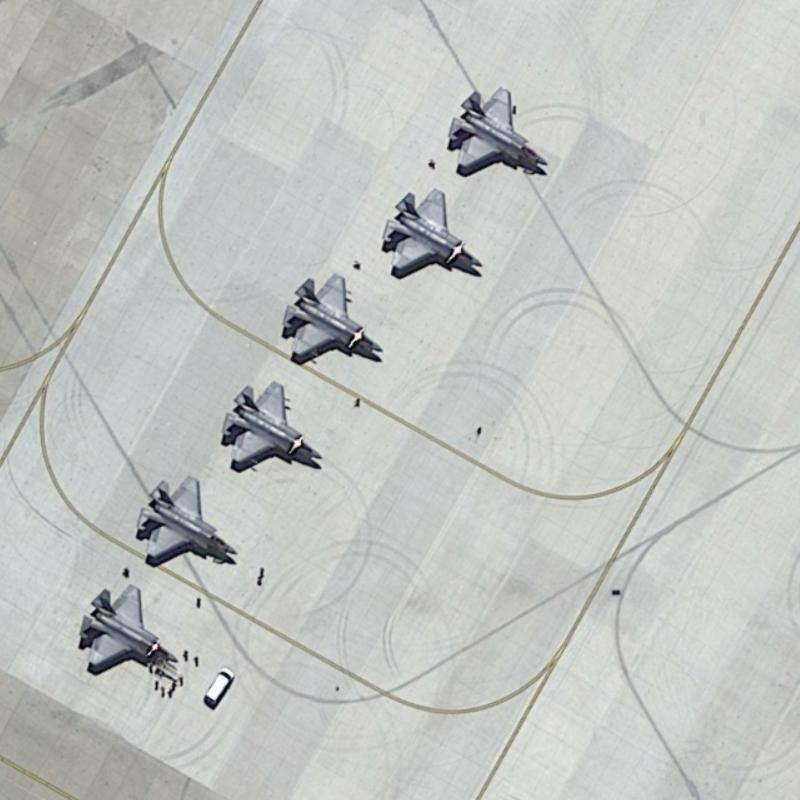A15: (67, 577, 187, 681), (268, 267, 389, 368), (211, 377, 331, 477), (375, 181, 491, 284), (128, 471, 245, 573), (440, 81, 554, 183)
